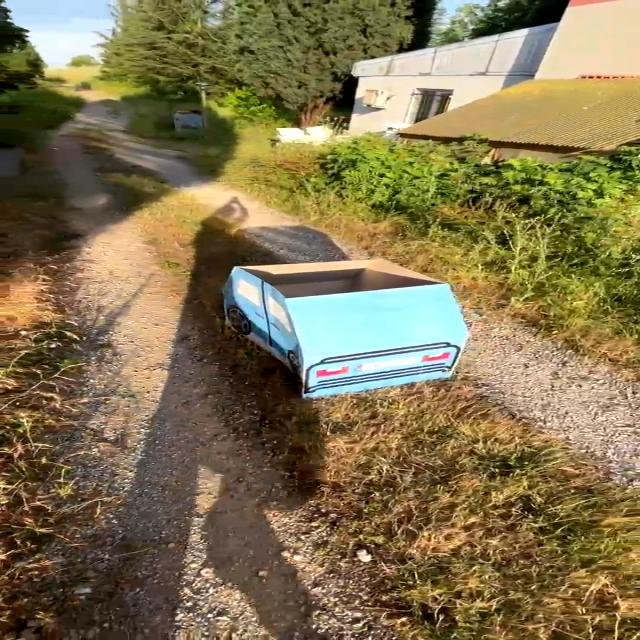blue_car: (169, 238, 501, 429)
